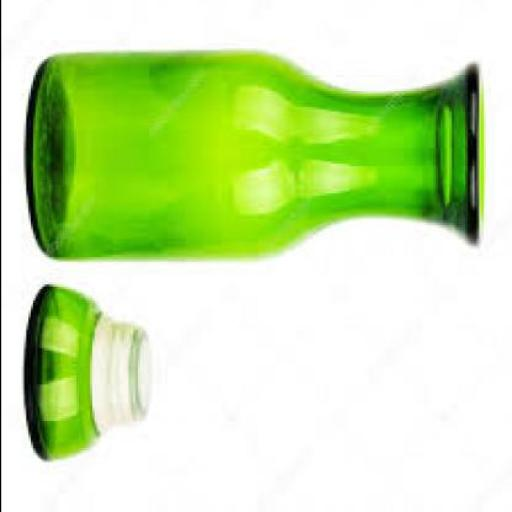glass: (30, 50, 482, 264), (23, 287, 151, 464)
